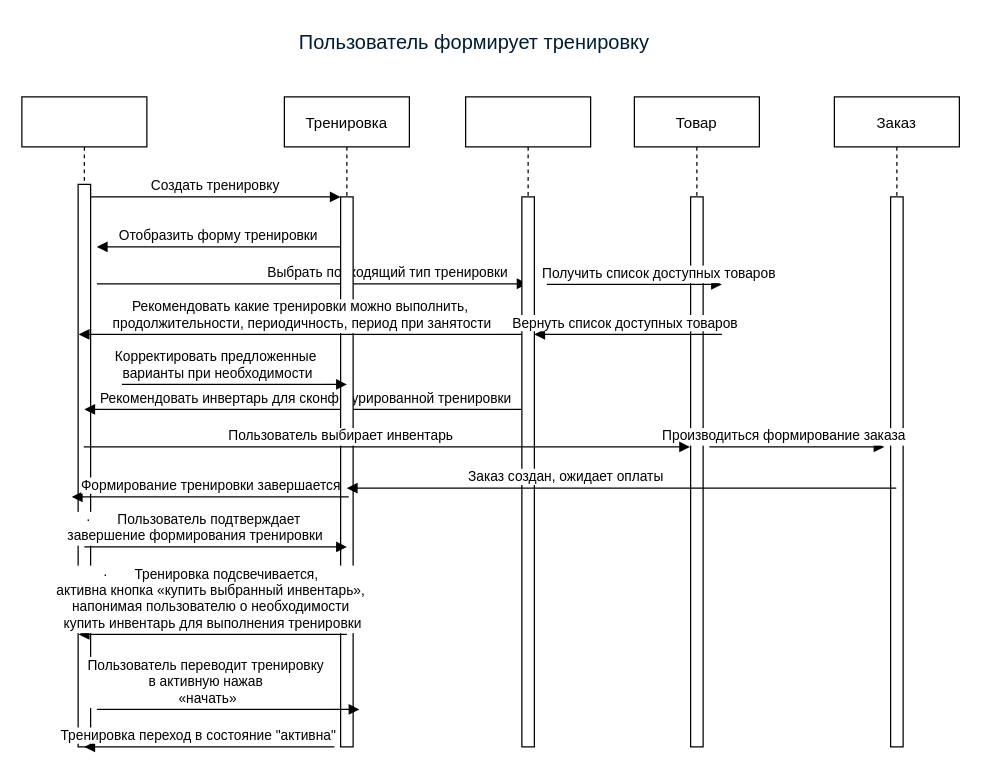
Image size: 981x779. Some labels were removed from this diagram. Each missing label, with the box of its shape:
Пользователь: (21, 96, 147, 747)
Рекомендации: (464, 96, 591, 747)
